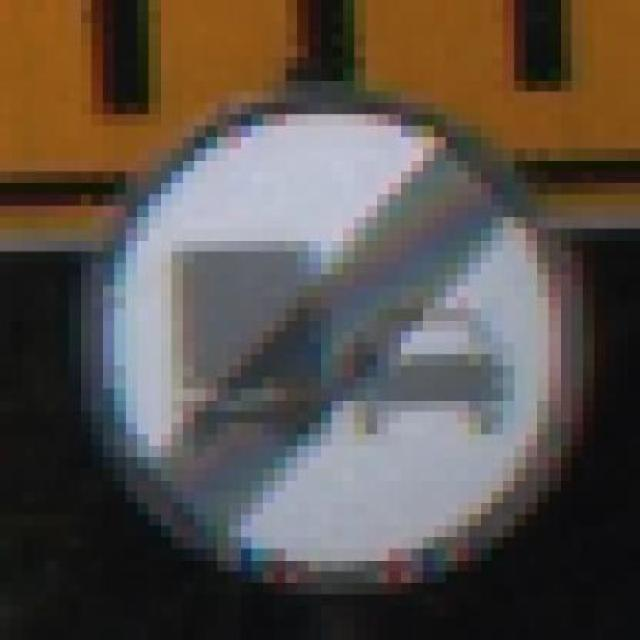Overtaking by trucks is prohibited: (34, 57, 617, 594)
